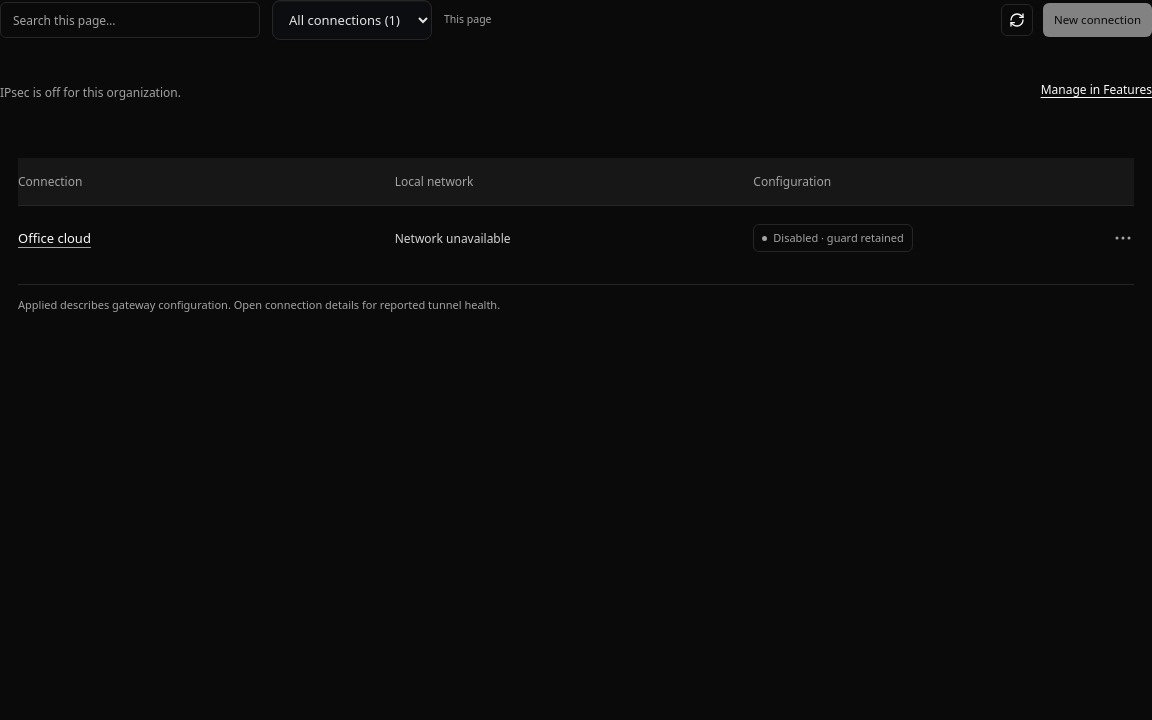
Test case: rotates one write-only key with exact revision and stays disabled
Click the button named "Connection actions for Office cloud" at (1123, 238), box top-left (1112, 222), bottom-right (1134, 254)
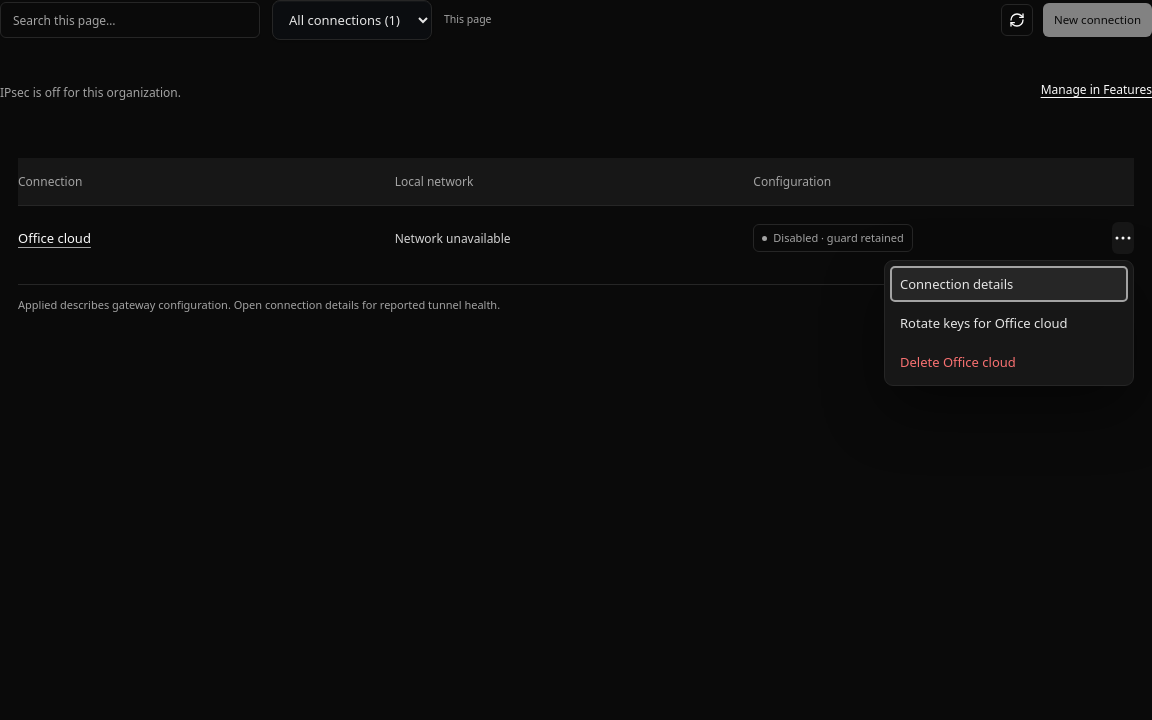
Click the menu item "Rotate keys for Office cloud" at (1009, 323), box top-left (890, 305), bottom-right (1128, 341)
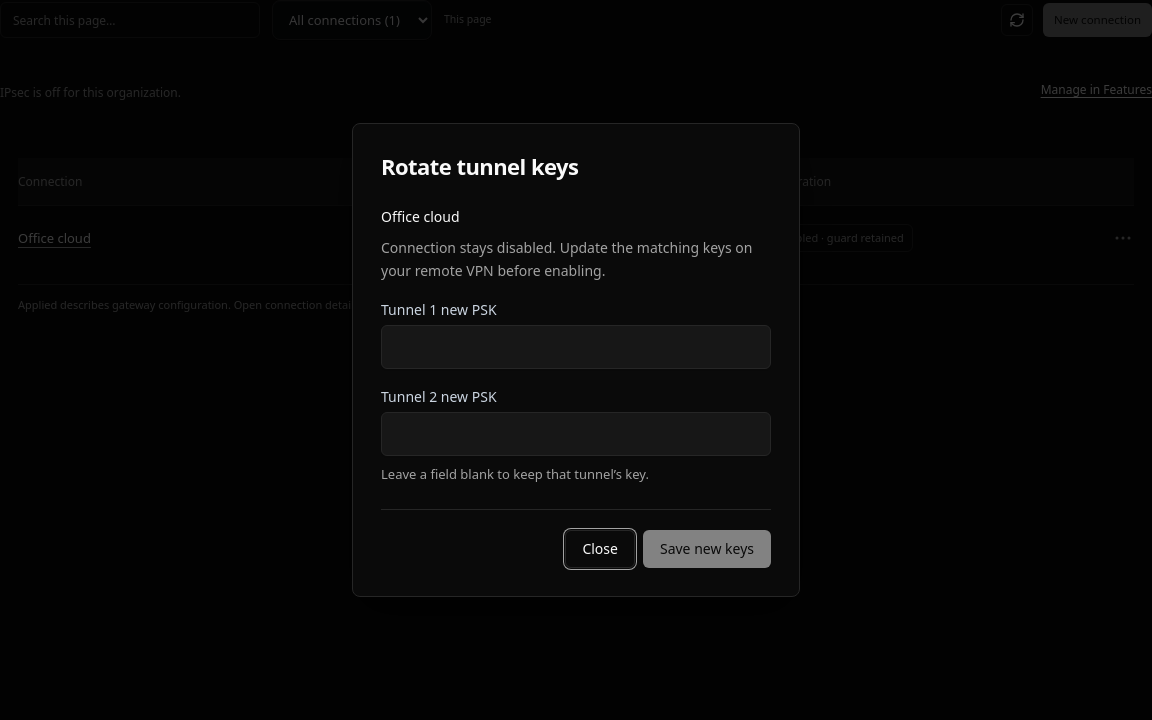
Check: the password field labelled "Tunnel 1 new PSK" is shown
Type "Synthetic.PrivateKey1" into the password field labelled "Tunnel 1 new PSK" at (576, 347), box top-left (381, 325), bottom-right (771, 369)
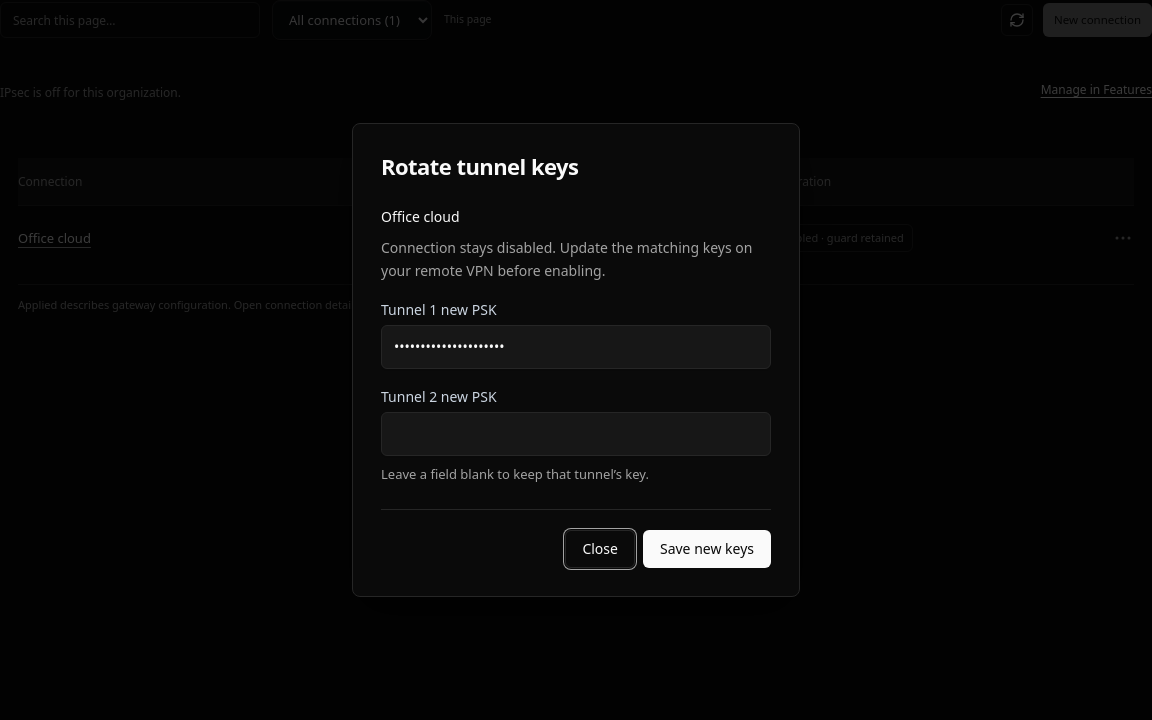
Click the button "Save new keys" at (707, 549), box top-left (643, 530), bottom-right (771, 568)
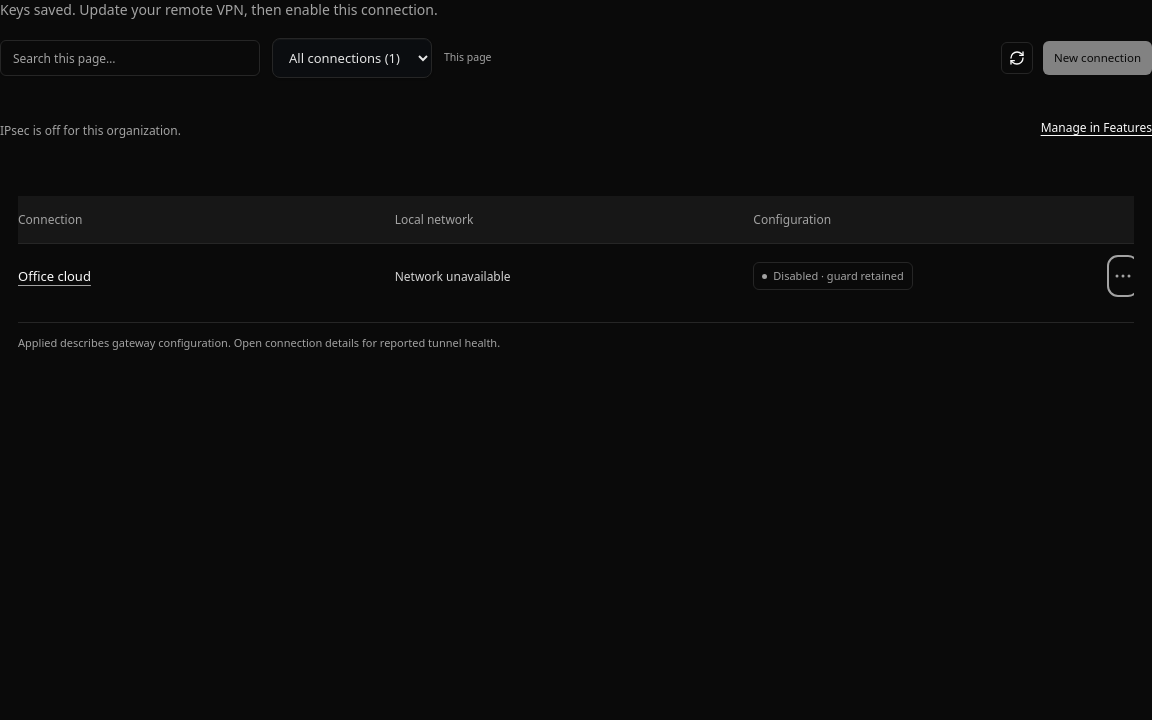
Check: the text "Keys saved. Update your remote VPN, then enable this connection." is shown, box top-left (0, 0), bottom-right (438, 19)
